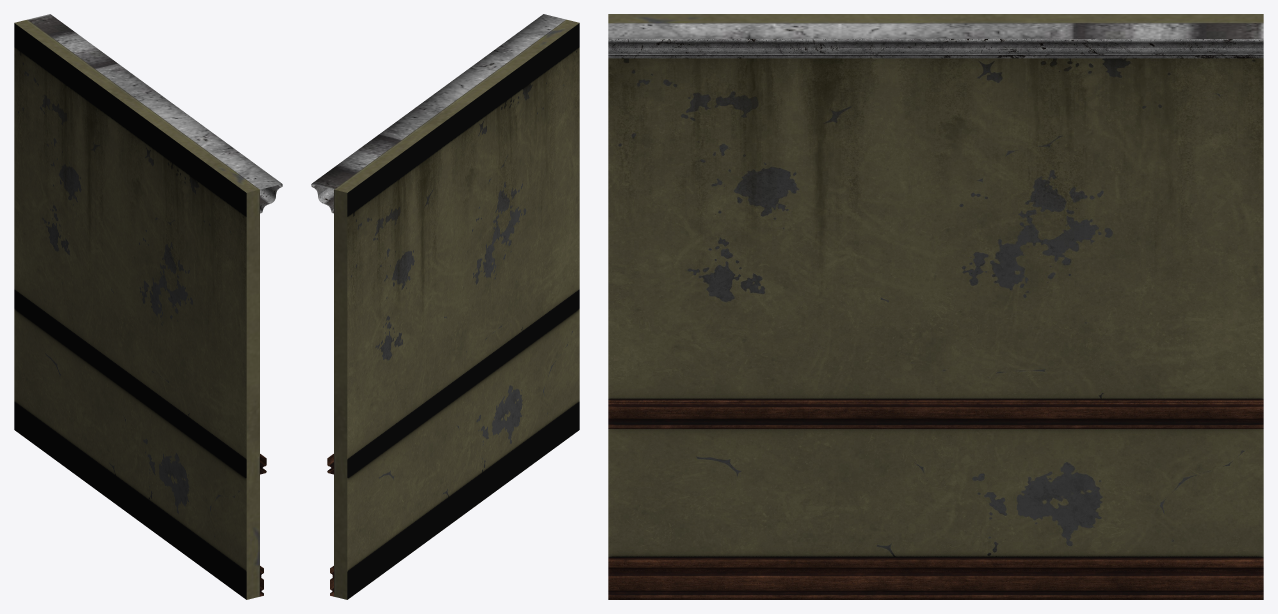
File: abandoned_wall__peeling_paint__pbr_game_asset.glb
3 renders of one model, left to right at view 1: azimuth 30°, elevation 25°; view 2: azimuth 150°, elevation 25°; view 3: azimuth 270°, elevation 25°, orthographic. The views are drawn at different scales.
Visible parts, largest first — view 1: Cube; view 2: Cube; view 3: Cube.
Part boxes in pixels (<box>): Cube: <box>14,14,282,599</box>; Cube: <box>311,14,579,599</box>; Cube: <box>608,14,1263,599</box>.
Size of the model in its own units: 0.2455 by 2.64 by 2.73.
Materials: 4 (4 with a texture image).
